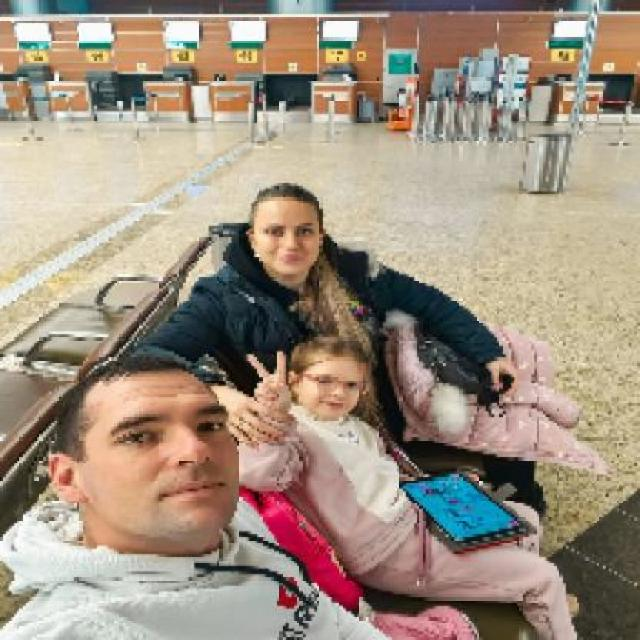child: (237, 334, 583, 637)
